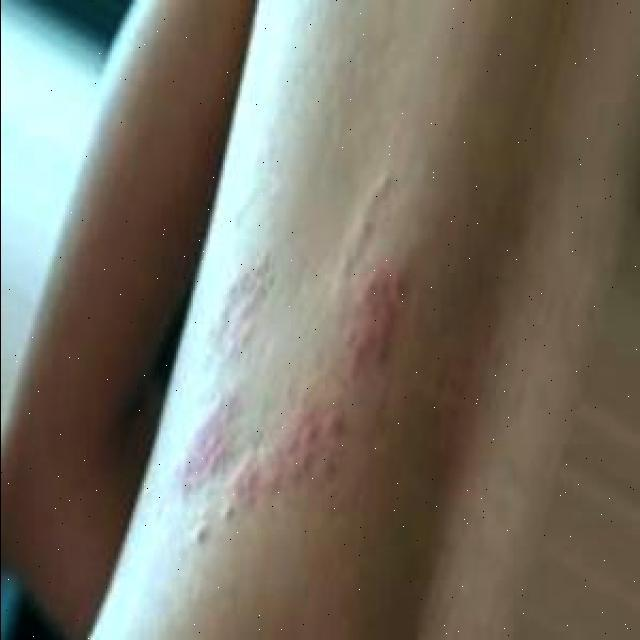Shingles: (186, 174, 420, 541)
